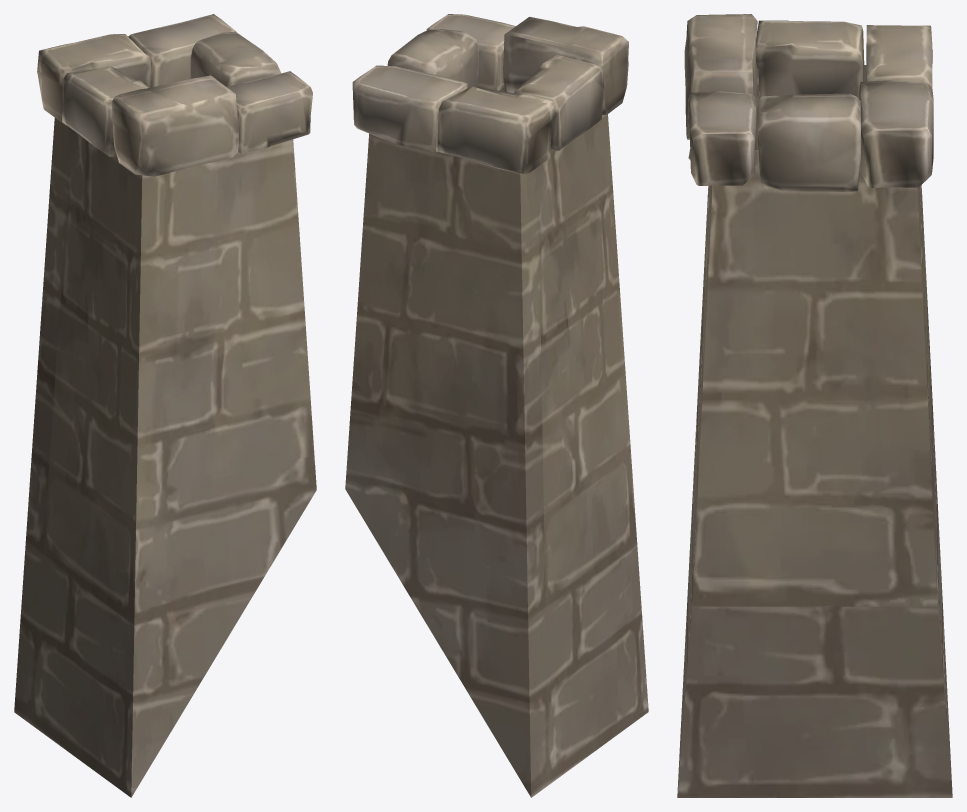
File: mv_chimney.glb
3 views of the same model, side by side, from view 1: azimuth 30°, elevation 25°; view 2: azimuth 150°, elevation 25°; view 3: azimuth 270°, elevation 25° (orthographic). The views are drawn at different scales.
Visible parts, largest first — view 1: Prop_Chimney; view 2: Prop_Chimney; view 3: Prop_Chimney.
Boxes of the visible parts, bbox=[...] form: Prop_Chimney: bbox=[14, 14, 316, 797]; Prop_Chimney: bbox=[345, 14, 648, 797]; Prop_Chimney: bbox=[677, 14, 952, 797].
Size of the model in its own units: 0.9459 by 3.18 by 1.
2 materials, 2 textured.
